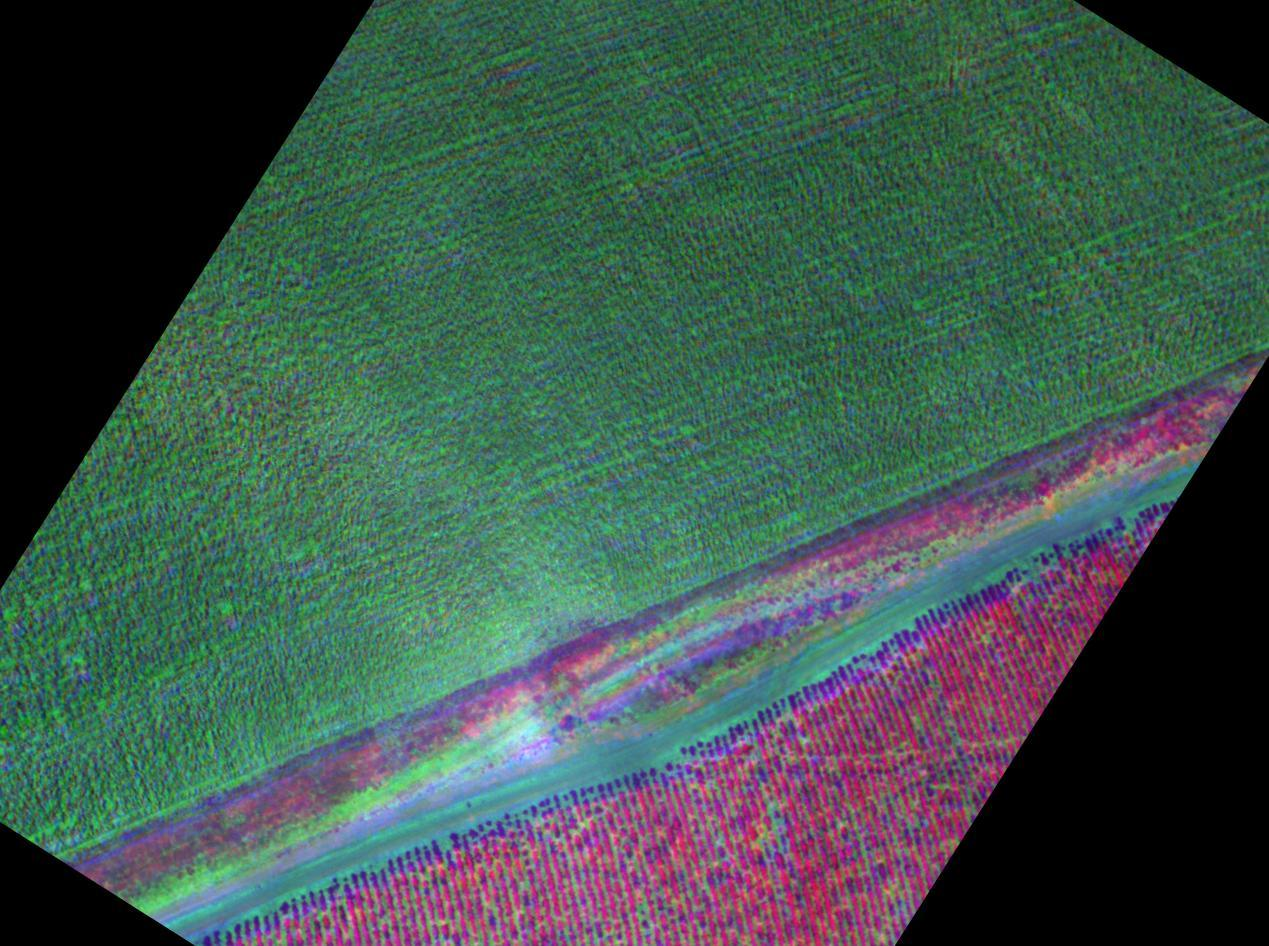dc: (721, 785, 792, 866), (616, 885, 702, 946), (848, 855, 915, 930), (418, 895, 516, 946), (926, 753, 984, 817)
